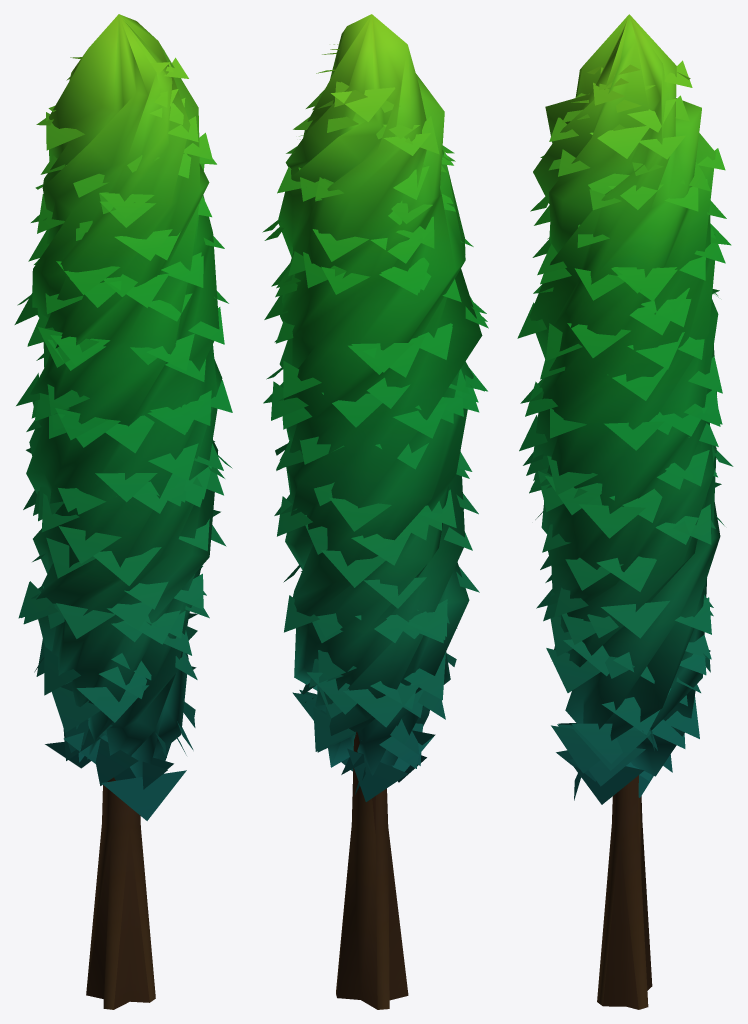
The model's file is Tree_5D.fbx.
3 renders of one model, left to right at view 1: azimuth 30°, elevation 25°; view 2: azimuth 150°, elevation 25°; view 3: azimuth 270°, elevation 25°, orthographic.
Visible parts, largest first — view 1: Tree_5D; view 2: Tree_5D; view 3: Tree_5D.
Boxes of the visible parts, box(x1,y1,x2,y2) form: Tree_5D: box(14, 14, 232, 1009); Tree_5D: box(262, 14, 488, 1009); Tree_5D: box(517, 14, 733, 1009).
Size of the model in its own units: 434 by 2080 by 416.
